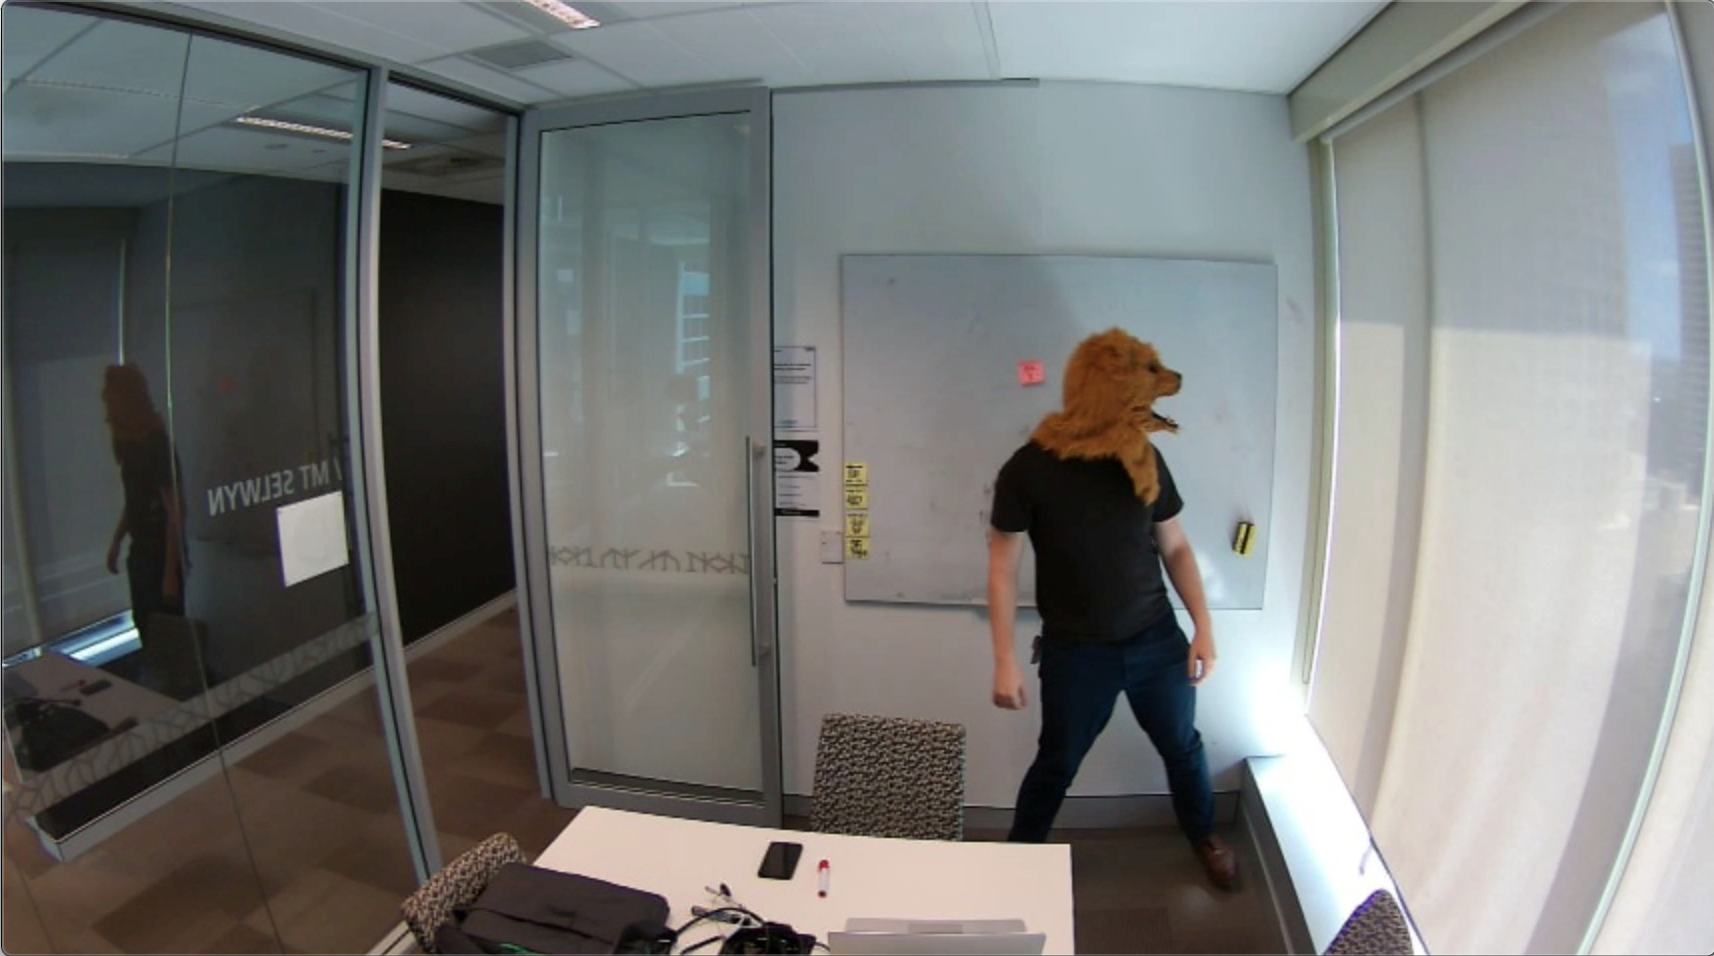Bear: (1054, 319, 1188, 439)
